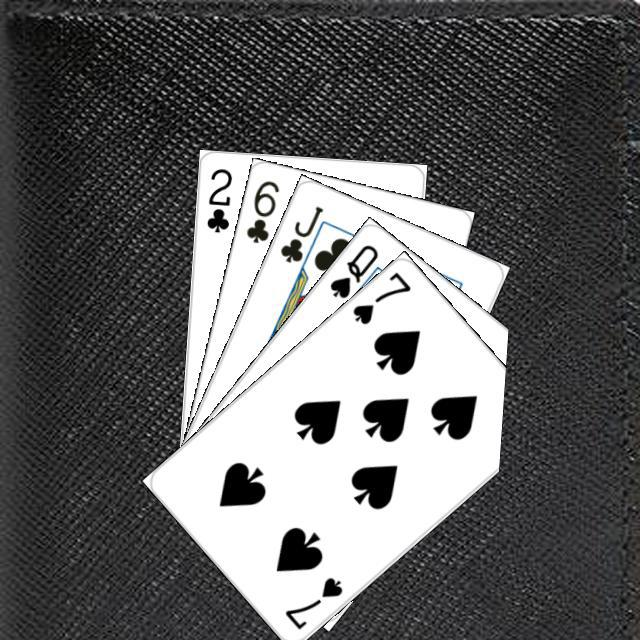2c: (201, 164, 234, 235)
6c: (241, 175, 281, 245)
7s: (347, 267, 413, 327), (279, 571, 345, 631)
Jc: (275, 201, 325, 265)
Qs: (324, 239, 380, 300)
